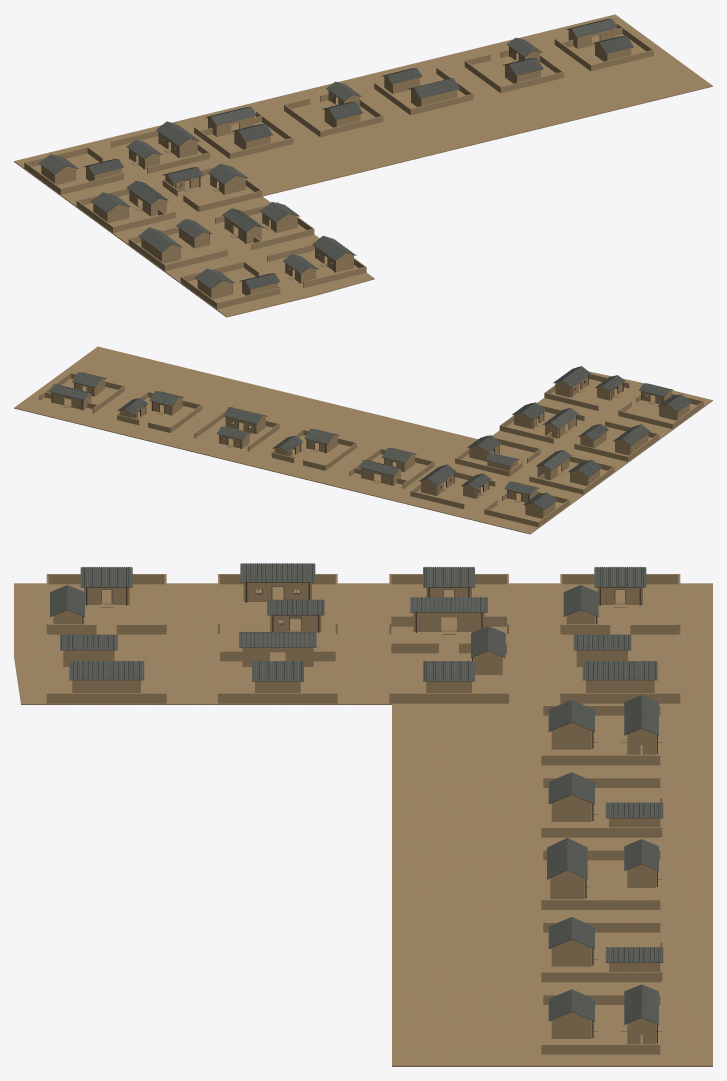
The model's file is life-block-LOD1.glb.
3 views of the same model, one above another, from view 1: azimuth 30°, elevation 25°; view 2: azimuth 150°, elevation 25°; view 3: azimuth 270°, elevation 25° (orthographic). The views are drawn at different scales.
Parts seen in each view (by area): view 1: C_life_block_ground_removable, LIFE-N5__life_C__LY_P01_earth, LIFE-N1__life_C__LY_P01_earth, LIFE-W3__life_C__LY_P01_earth, LIFE-W4__life_A__LY_P01_earth, LIFE-W1__life_A__LY_P01_earth, LIFE-N3__life_B__LY_P01_earth, LIFE-E1__life_B__LY_P01_earth, LIFE-E4__life_B__LY_P01_earth, LIFE-W2__life_B__LY_P01_earth, LIFE-E2__life_C__LY_P01_earth, LIFE-E3__life_A__LY_P01_earth (+15 smaller); view 2: C_life_block_ground_removable, LIFE-W3__life_C__LY_P01_earth, LIFE-W2__life_B__LY_P01_earth, LIFE-W1__life_A__LY_P01_earth, LIFE-W4__life_A__LY_P01_earth, LIFE-N5__life_C__LY_P01_earth, LIFE-E2__life_C__LY_P01_earth, LIFE-N1__life_C__LY_P01_earth, LIFE-E3__life_A__LY_P01_earth, LIFE-N3__life_B__LY_P01_earth, LIFE-E1__life_B__LY_P01_earth, LIFE-E4__life_B__LY_P01_earth (+15 smaller); view 3: C_life_block_ground_removable, LIFE-N4__life_A__LY_P01_earth, LIFE-N2__life_A__LY_P01_earth, LIFE-N1__life_C__LY_P01_earth, LIFE-E2__life_C__LY_P01_earth, LIFE-N5__life_C__LY_P01_earth, LIFE-N3__life_B__LY_P01_earth, LIFE-E3__life_A__LY_P01_earth, LIFE-W3__life_C__LY_P01_earth, LIFE-W1__life_A__LY_P01_earth, LIFE-W4__life_A__LY_P01_earth, LIFE-E1__life_B__LY_P01_earth (+15 smaller).
Part boxes in pixels (x1,y1,x2,y2): C_life_block_ground_removable: [14, 14, 712, 317]; LIFE-N5__life_C__LY_P01_earth: [554, 23, 653, 71]; LIFE-N1__life_C__LY_P01_earth: [194, 111, 293, 159]; LIFE-W3__life_C__LY_P01_earth: [76, 188, 175, 232]; LIFE-W4__life_A__LY_P01_earth: [24, 147, 124, 194]; LIFE-W1__life_A__LY_P01_earth: [180, 261, 280, 309]; LIFE-N3__life_B__LY_P01_earth: [374, 67, 473, 115]; LIFE-E1__life_B__LY_P01_earth: [267, 244, 366, 287]; LIFE-E4__life_B__LY_P01_earth: [111, 130, 210, 173]; LIFE-W2__life_B__LY_P01_earth: [128, 226, 227, 270]; LIFE-E2__life_C__LY_P01_earth: [215, 202, 314, 249]; LIFE-E3__life_A__LY_P01_earth: [162, 164, 262, 211]; C_life_block_ground_removable: [14, 346, 712, 534]; LIFE-W3__life_C__LY_P01_earth: [529, 456, 614, 494]; LIFE-W2__life_B__LY_P01_earth: [574, 421, 659, 461]; LIFE-W1__life_A__LY_P01_earth: [618, 390, 703, 429]; LIFE-W4__life_A__LY_P01_earth: [484, 488, 569, 527]; LIFE-N5__life_C__LY_P01_earth: [39, 373, 124, 413]; LIFE-E2__life_C__LY_P01_earth: [499, 403, 584, 443]; LIFE-N1__life_C__LY_P01_earth: [349, 448, 434, 489]; LIFE-E3__life_A__LY_P01_earth: [455, 435, 540, 476]; LIFE-N3__life_B__LY_P01_earth: [194, 410, 279, 451]; LIFE-E1__life_B__LY_P01_earth: [544, 374, 629, 410]; LIFE-E4__life_B__LY_P01_earth: [410, 472, 495, 508]; C_life_block_ground_removable: [14, 583, 712, 1066]; LIFE-N4__life_A__LY_P01_earth: [541, 922, 662, 982]; LIFE-N2__life_A__LY_P01_earth: [541, 777, 662, 837]; LIFE-N1__life_C__LY_P01_earth: [541, 705, 662, 765]; LIFE-E2__life_C__LY_P01_earth: [218, 643, 337, 703]; LIFE-N5__life_C__LY_P01_earth: [541, 994, 662, 1054]; LIFE-N3__life_B__LY_P01_earth: [541, 849, 662, 909]; LIFE-E3__life_A__LY_P01_earth: [389, 642, 508, 703]; LIFE-W3__life_C__LY_P01_earth: [389, 574, 508, 634]; LIFE-W1__life_A__LY_P01_earth: [46, 574, 166, 634]; LIFE-W4__life_A__LY_P01_earth: [560, 574, 680, 634]; LIFE-E1__life_B__LY_P01_earth: [46, 643, 166, 703].
Bounding box in the file's own units: 160 × 5.09 × 98.
3 materials, 3 textured.
